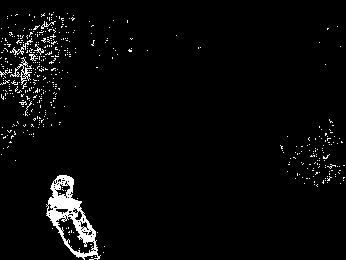person: (44, 172, 102, 260)
